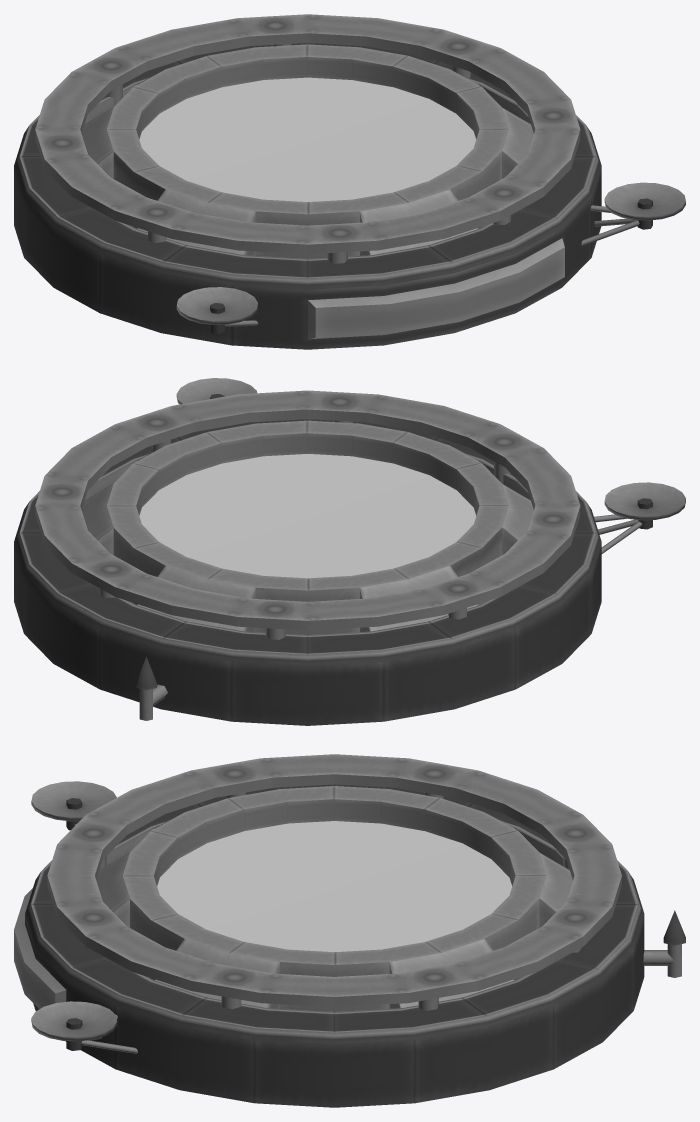
File: MOL_DockingPort.fbx
The picture shows the model from 3 angles, top to bottom: view 1: azimuth 30°, elevation 25°; view 2: azimuth 150°, elevation 25°; view 3: azimuth 270°, elevation 25°; orthographic projection. The views are drawn at different scales.
Visible parts, largest first — view 1: MOL_ActiveDockingModule2_DockingSystemThing2, DockingRing, polySurface19; view 2: MOL_ActiveDockingModule2_DockingSystemThing2, DockingRing, polySurface19; view 3: MOL_ActiveDockingModule2_DockingSystemThing2, DockingRing, polySurface19.
Part boxes in pixels (x1,y1,x2,y2): MOL_ActiveDockingModule2_DockingSystemThing2: (14, 43, 685, 349); DockingRing: (35, 14, 580, 263); polySurface19: (139, 77, 476, 201); MOL_ActiveDockingModule2_DockingSystemThing2: (14, 378, 685, 725); DockingRing: (35, 390, 580, 639); polySurface19: (139, 454, 476, 578); MOL_ActiveDockingModule2_DockingSystemThing2: (14, 781, 685, 1107); DockingRing: (47, 754, 621, 1010); polySurface19: (157, 821, 512, 952).
Size of what is drawn, in the model's own units: 1.87 by 0.3385 by 2.03.
